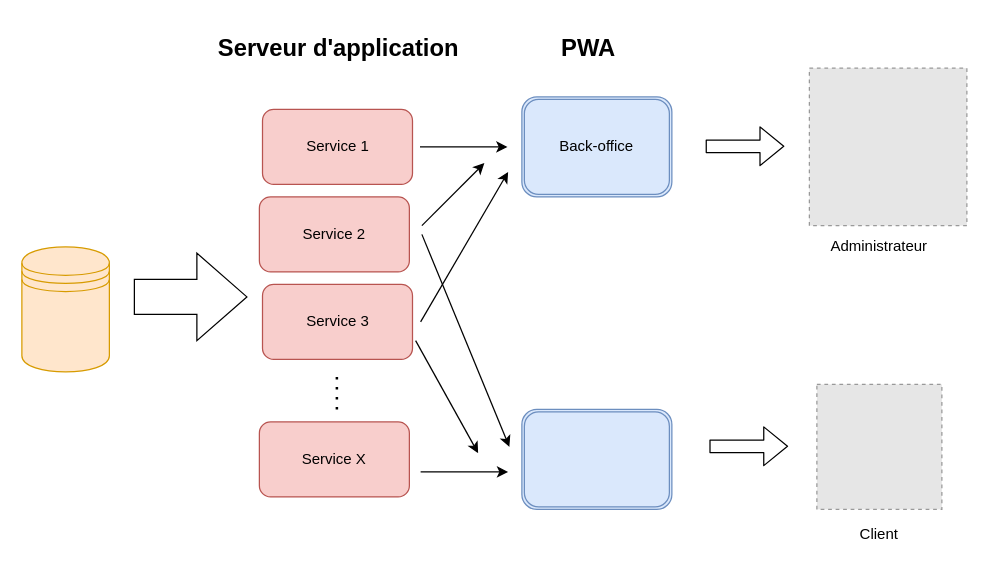
Some shapes in this 989 by 568 pixel diagram are drawn without their labels. Grey dashed boxes stand in for pictures. The shapes that lost their labels are listed below. From the top down, each one's centre as x and y in pixels, then its label:
At (65,309): "Base de données".
At (596,458): "Mobile".
